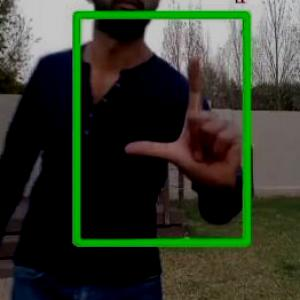land_hand: (120, 40, 245, 197)
